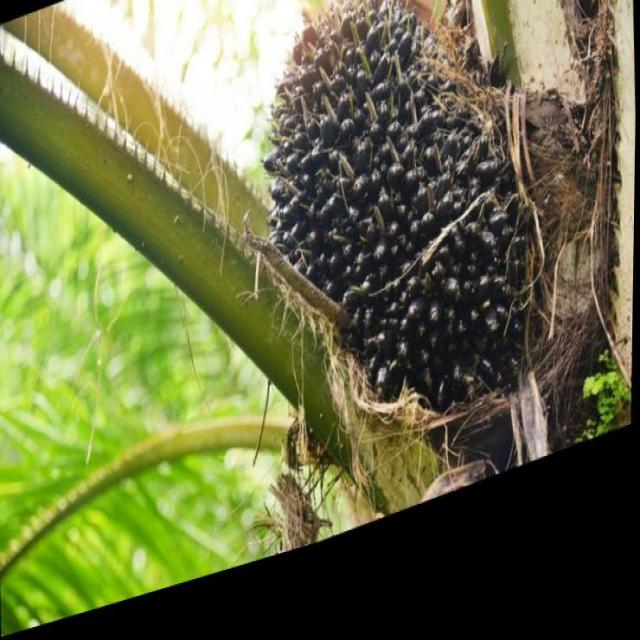Unripe: (252, 0, 558, 508)
